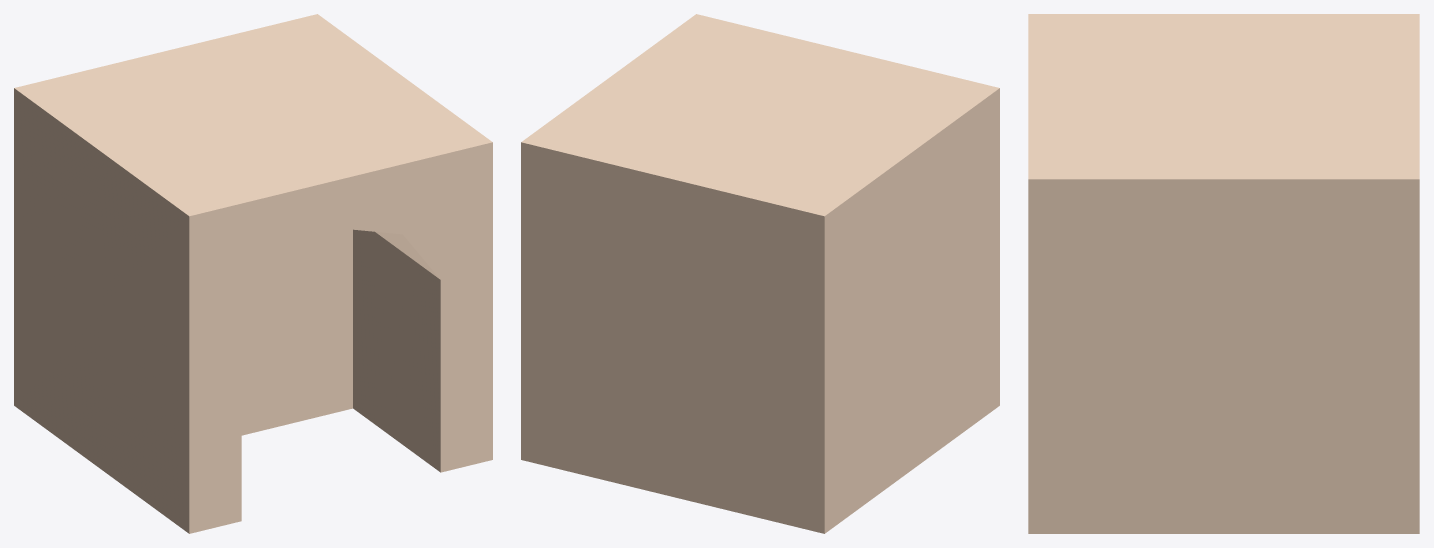
The model's file is Abstract_Modular_Alcove_Top_1.0_Beige_01.fbx.
The picture shows the model from 3 angles, left to right: view 1: azimuth 30°, elevation 25°; view 2: azimuth 150°, elevation 25°; view 3: azimuth 270°, elevation 25°; orthographic projection. The views are drawn at different scales.
Parts seen in each view (by area): view 1: Abstract_Modular_Alcove_Top_1.0_Beige_01; view 2: Abstract_Modular_Alcove_Top_1.0_Beige_01; view 3: Abstract_Modular_Alcove_Top_1.0_Beige_01.
Part boxes in pixels (x1,y1,x2,y2): Abstract_Modular_Alcove_Top_1.0_Beige_01: (14, 14, 492, 533); Abstract_Modular_Alcove_Top_1.0_Beige_01: (521, 14, 999, 533); Abstract_Modular_Alcove_Top_1.0_Beige_01: (1028, 14, 1419, 533).
Bounding box in the file's own units: 3000 × 3000 × 3000.
